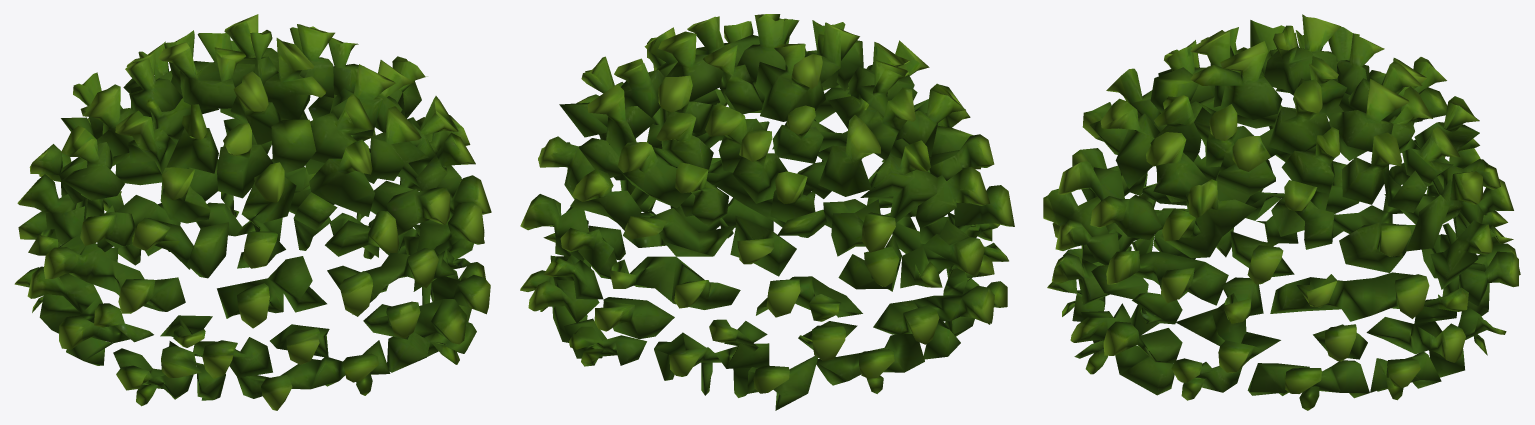
3 renders of one model, left to right at view 1: azimuth 30°, elevation 25°; view 2: azimuth 150°, elevation 25°; view 3: azimuth 270°, elevation 25°, orthographic.
Parts seen in each view (by area): view 1: tripo_node_d23ec270-08ae-4747-8d42-962bfe41643c; view 2: tripo_node_d23ec270-08ae-4747-8d42-962bfe41643c; view 3: tripo_node_d23ec270-08ae-4747-8d42-962bfe41643c.
Part boxes in pixels (x1,y1,x2,y2): tripo_node_d23ec270-08ae-4747-8d42-962bfe41643c: (14,14,491,410); tripo_node_d23ec270-08ae-4747-8d42-962bfe41643c: (520,14,1014,410); tripo_node_d23ec270-08ae-4747-8d42-962bfe41643c: (1043,14,1520,410).
Bounding box in the file's own units: 0.998 × 0.6777 × 0.9902.
Materials: 1 (1 with a texture image).
